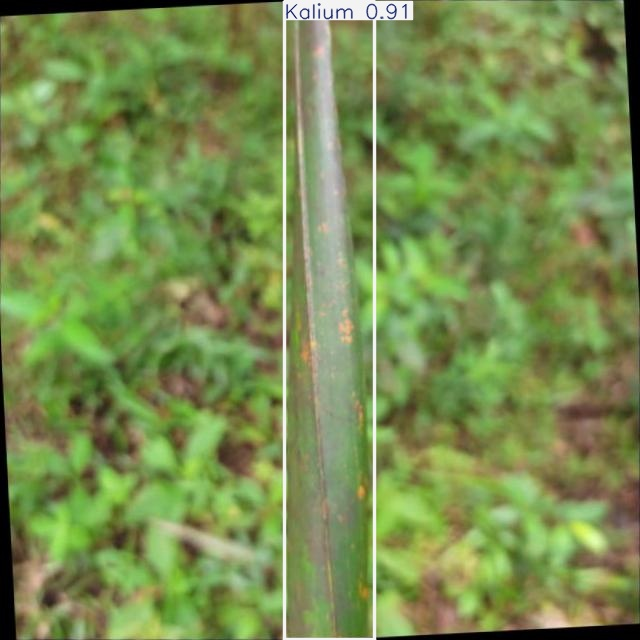Kalium: (284, 2, 374, 640)
